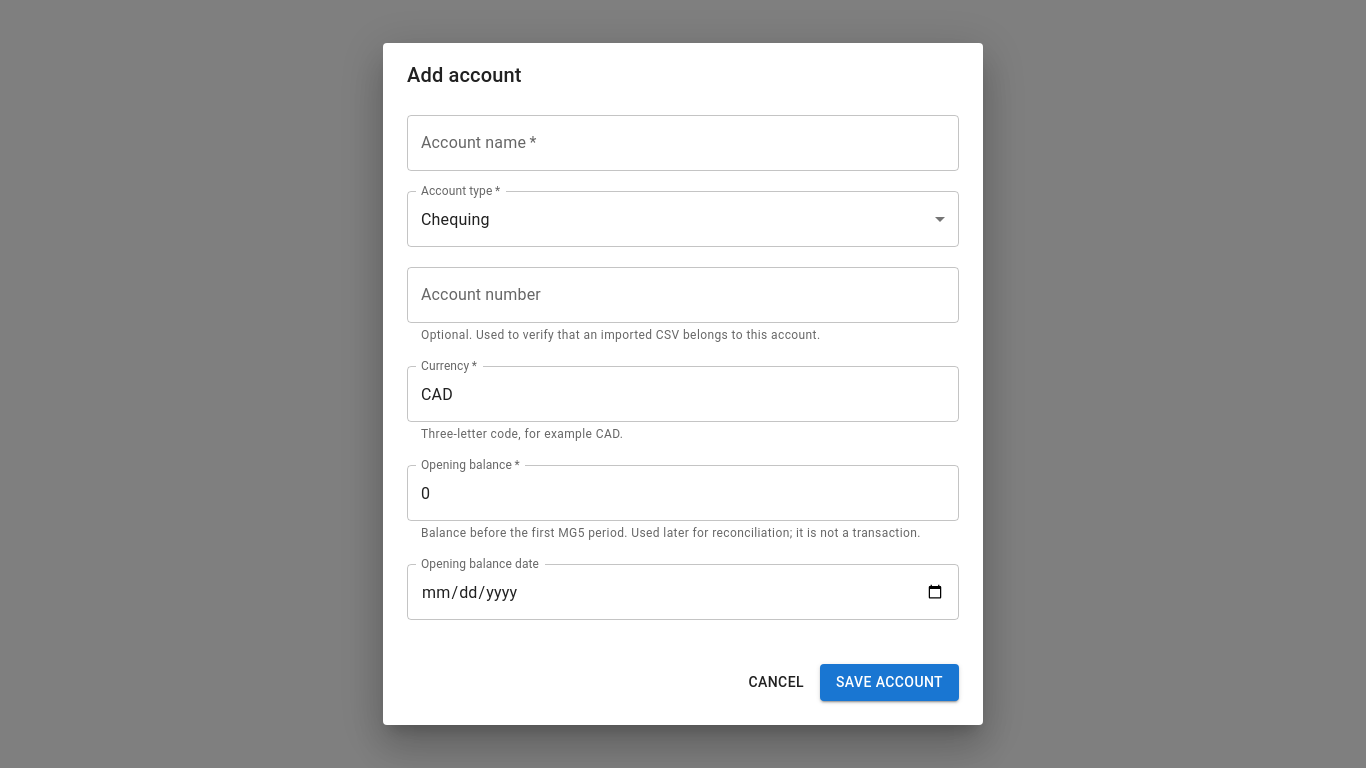
Test case: accounts › rejects a currency that is not three ASCII letters
In the field labelled "Account name *": point(683, 143) [407, 115, 959, 171], type "Cash"
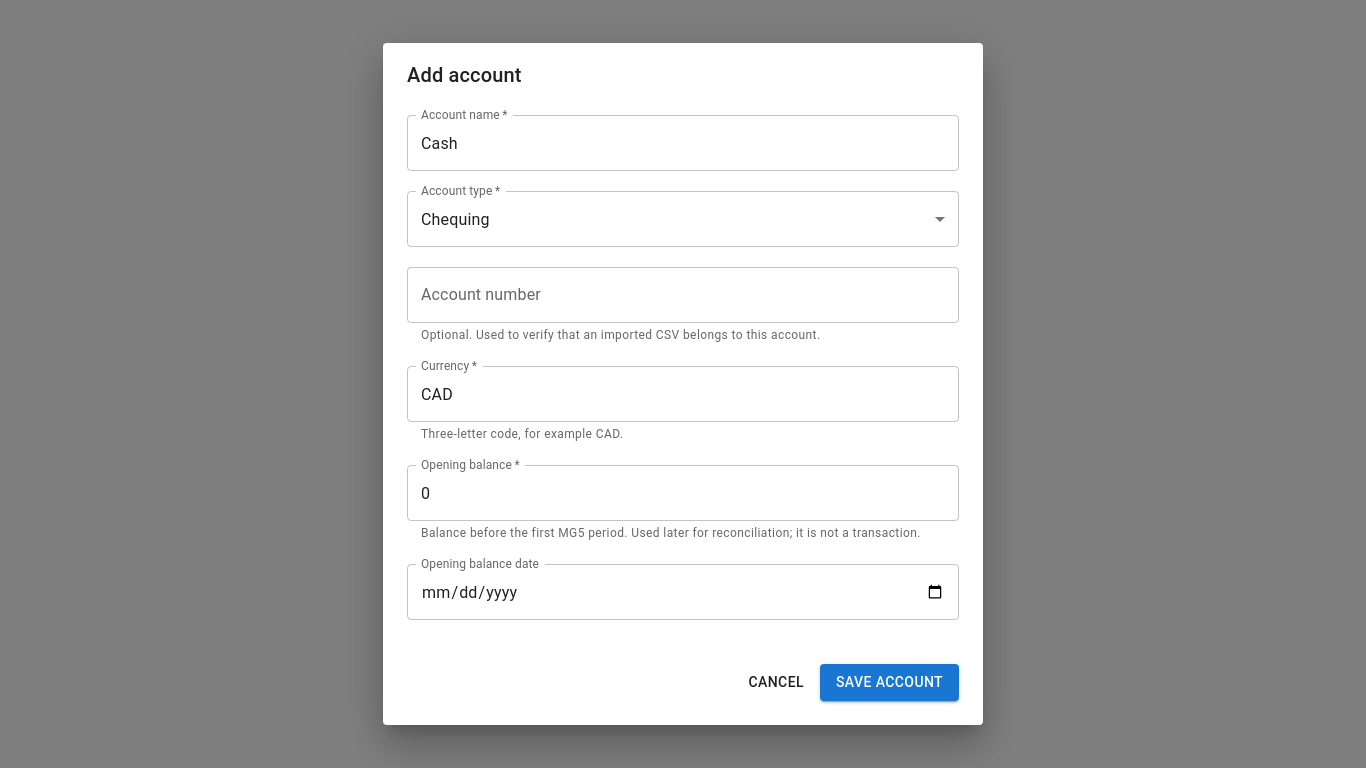
Replace the text in the field labelled "Currency *" with "12$": point(683, 394) [407, 366, 959, 422]
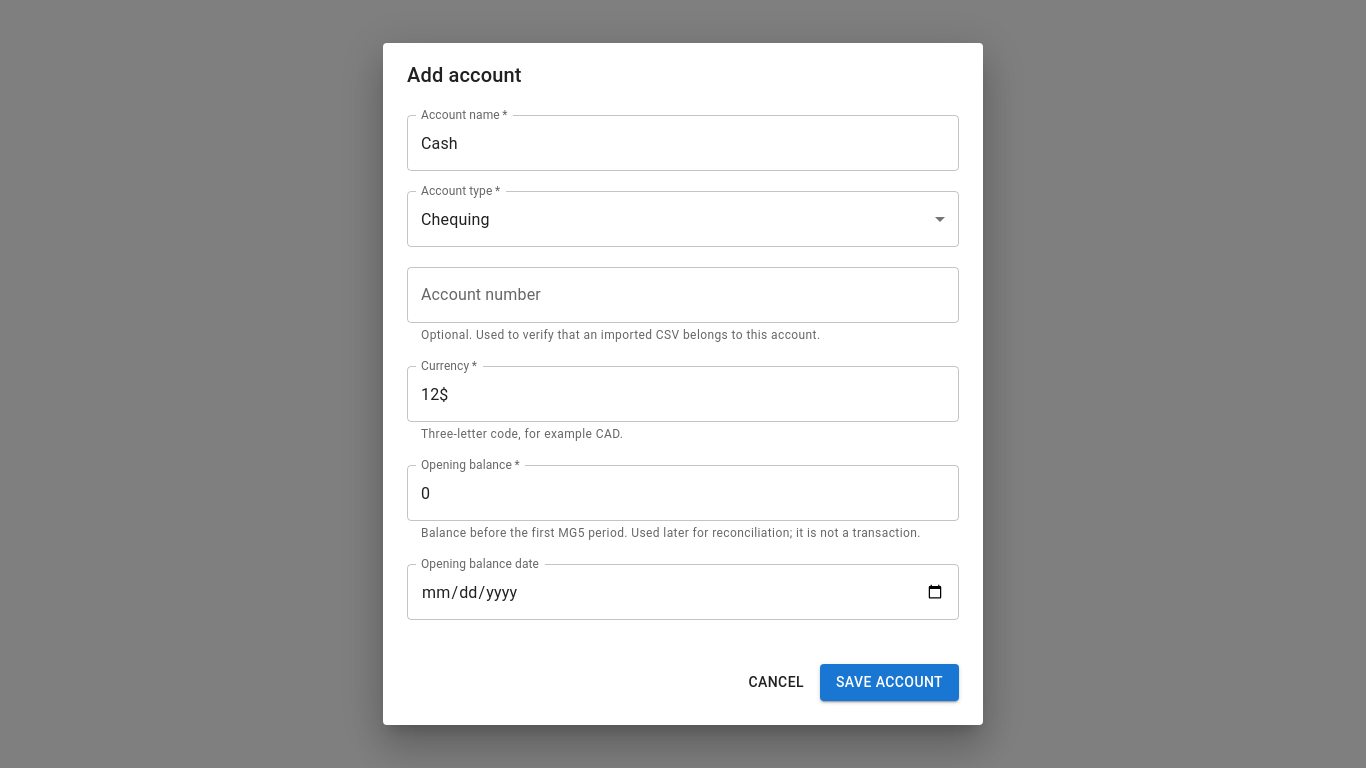
Click the button "Save account": point(890, 682) [820, 664, 959, 701]
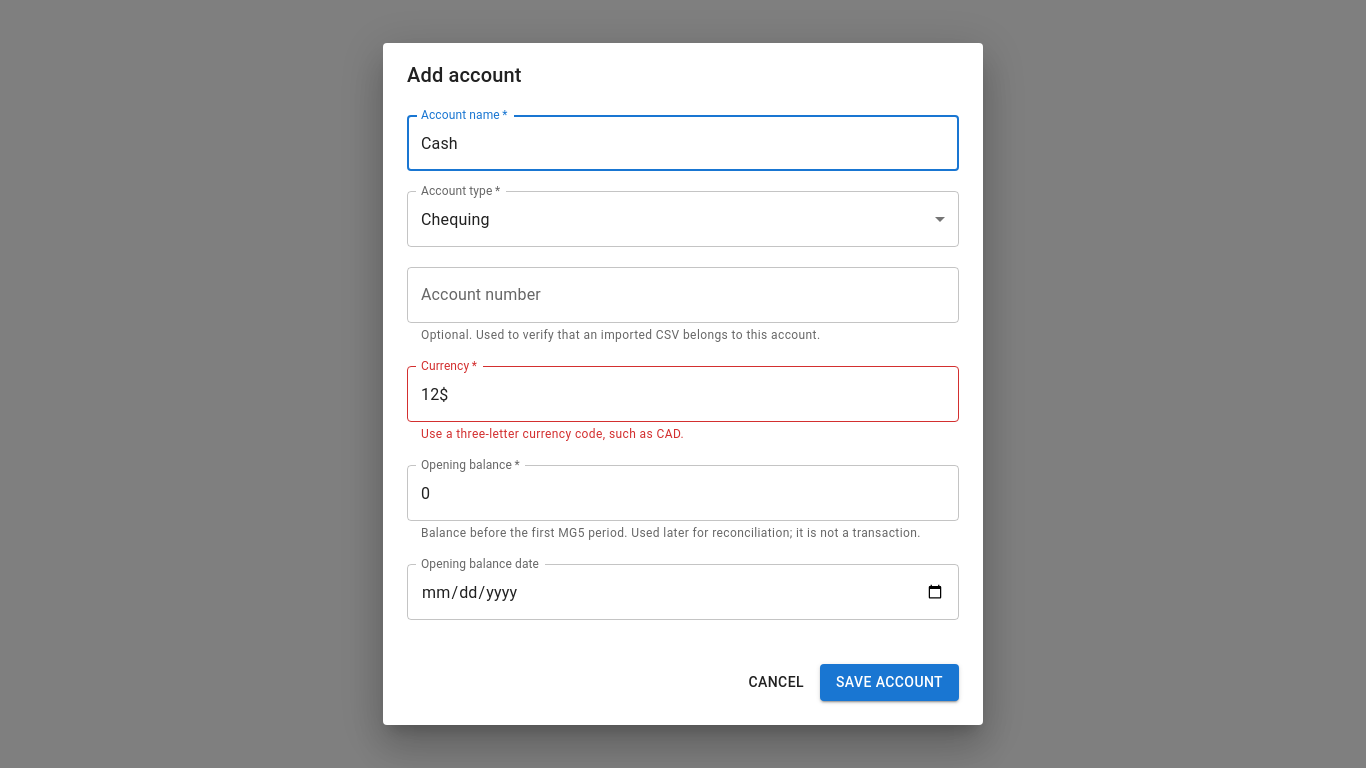
Expected: the text "Use a three-letter currency code, such as CAD." is shown, [421, 427, 684, 441]
